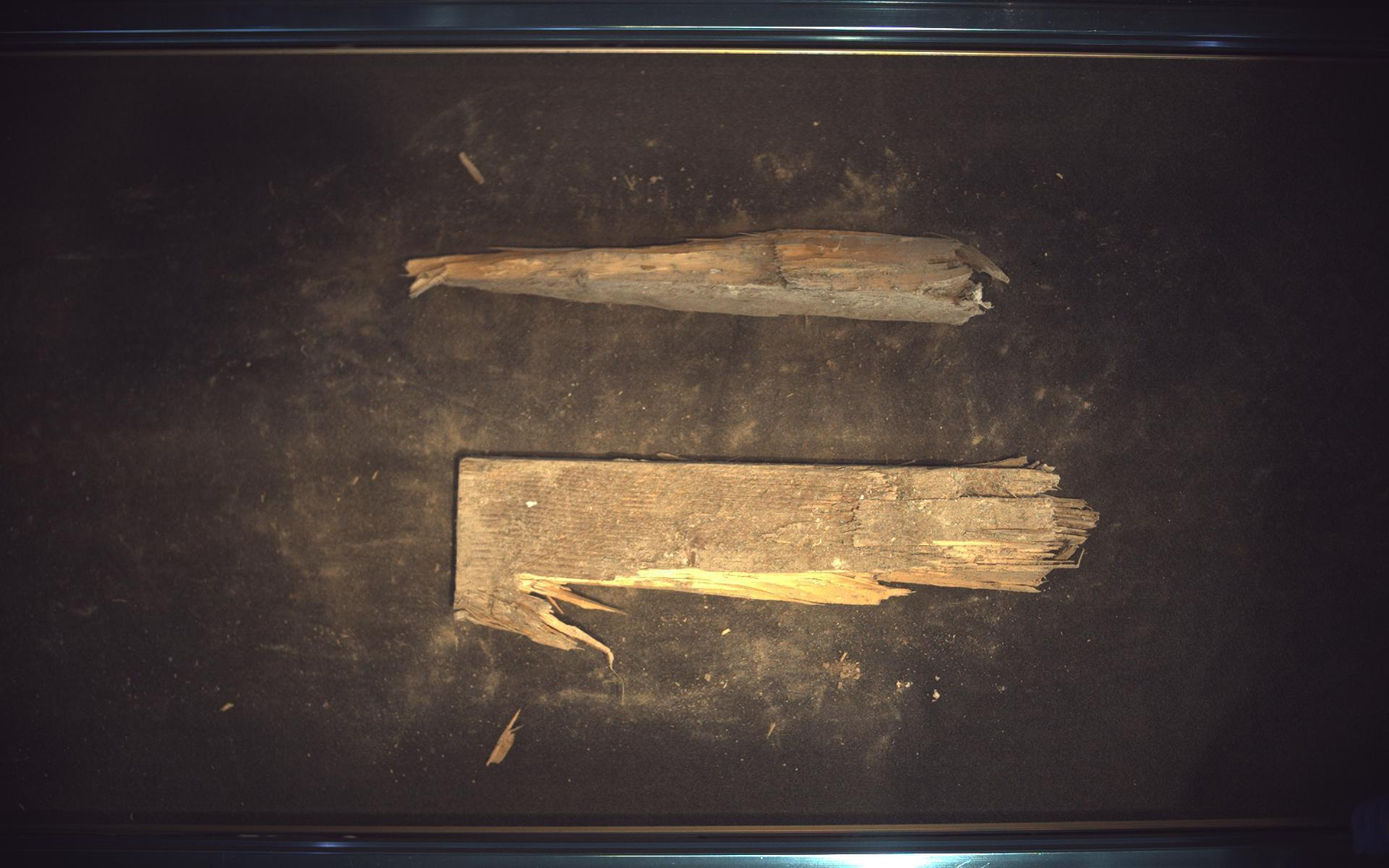wood: (454, 459, 1100, 670), (406, 229, 1011, 324)
